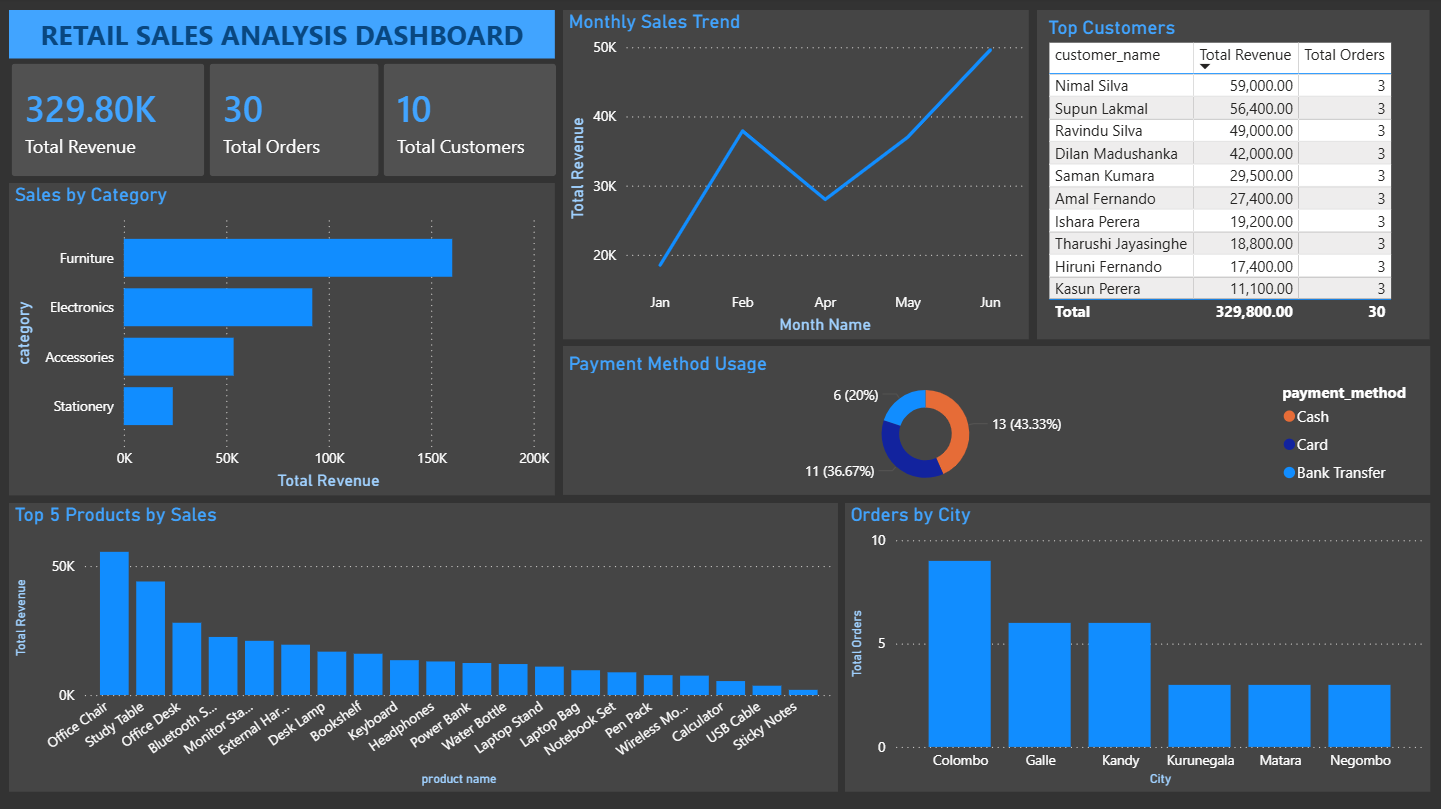

The page's visual inventory and layout, read from the dashboard file:
{"tool":"powerbi","page":{"name":"Page 1","canvas":[1280,720],"ordinal":0},"visuals":[{"type":"cardVisual","fields":{"Data":["retail_sales_db retail_sales.Total Revenue"]},"box":[0,46.1,195.1,124.1],"z":0},{"type":"cardVisual","fields":{"Data":["retail_sales_db retail_sales.Total Orders"]},"box":[175.6,46.1,174.7,124.1],"z":1000},{"type":"cardVisual","fields":{"Data":["retail_sales_db retail_sales.Total Customers"]},"box":[329.9,46.1,177.3,124.1],"z":2000},{"type":"clusteredBarChart","title":"Sales by Category","fields":{"Category":["retail_sales_db retail_sales.category"],"Y":["retail_sales_db retail_sales.Total Revenue"]},"box":[9.8,164,484.1,276.7],"z":3000},{"type":"lineChart","title":"Monthly Sales Trend","fields":{"Category":["retail_sales_db retail_sales.Month Name"],"Y":["retail_sales_db retail_sales.Total Revenue"]},"box":[501,10.6,413.2,291.7],"z":4000},{"type":"clusteredColumnChart","title":"Top 5 Products by Sales","fields":{"Category":["retail_sales_db retail_sales.product_name"],"Y":["retail_sales_db retail_sales.Total Revenue"]},"box":[9.8,447.8,735.1,256.3],"z":5000},{"type":"clusteredColumnChart","title":"Orders by City","fields":{"Category":["retail_sales_db retail_sales.city"],"Y":["retail_sales_db retail_sales.Total Orders"]},"box":[751,447.8,518.7,256.3],"z":6000},{"type":"donutChart","title":"Payment Method Usage","fields":{"Category":["retail_sales_db retail_sales.payment_method"],"Y":["retail_sales_db retail_sales.Total Orders"]},"box":[501,308.6,768.8,132.1],"z":7000},{"type":"tableEx","title":"Top Customers","fields":{"Values":["retail_sales_db retail_sales.customer_name","retail_sales_db retail_sales.Total Revenue","retail_sales_db retail_sales.Total Orders"]},"box":[921.3,10.6,348.5,291.7],"z":8000},{"type":"textbox","box":[9.8,10.6,484.1,43.4],"z":9000}]}

Visuals, with their boxes in screenshot pixels (x1, y1, x2, y2), scaled from the page's 1280x720 canvas onto the 1441x809 screenshot:
cardVisual - retail_sales_db retail_sales.Total Revenue: <bbox>0, 52, 220, 191</bbox>
cardVisual - retail_sales_db retail_sales.Total Orders: <bbox>198, 52, 394, 191</bbox>
cardVisual - retail_sales_db retail_sales.Total Customers: <bbox>371, 52, 571, 191</bbox>
"Sales by Category" clusteredBarChart: <bbox>11, 184, 556, 495</bbox>
"Monthly Sales Trend" lineChart: <bbox>564, 12, 1029, 340</bbox>
"Top 5 Products by Sales" clusteredColumnChart: <bbox>11, 503, 839, 791</bbox>
"Orders by City" clusteredColumnChart: <bbox>845, 503, 1429, 791</bbox>
"Payment Method Usage" donutChart: <bbox>564, 347, 1430, 495</bbox>
"Top Customers" tableEx: <bbox>1037, 12, 1430, 340</bbox>
textbox: <bbox>11, 12, 556, 61</bbox>
